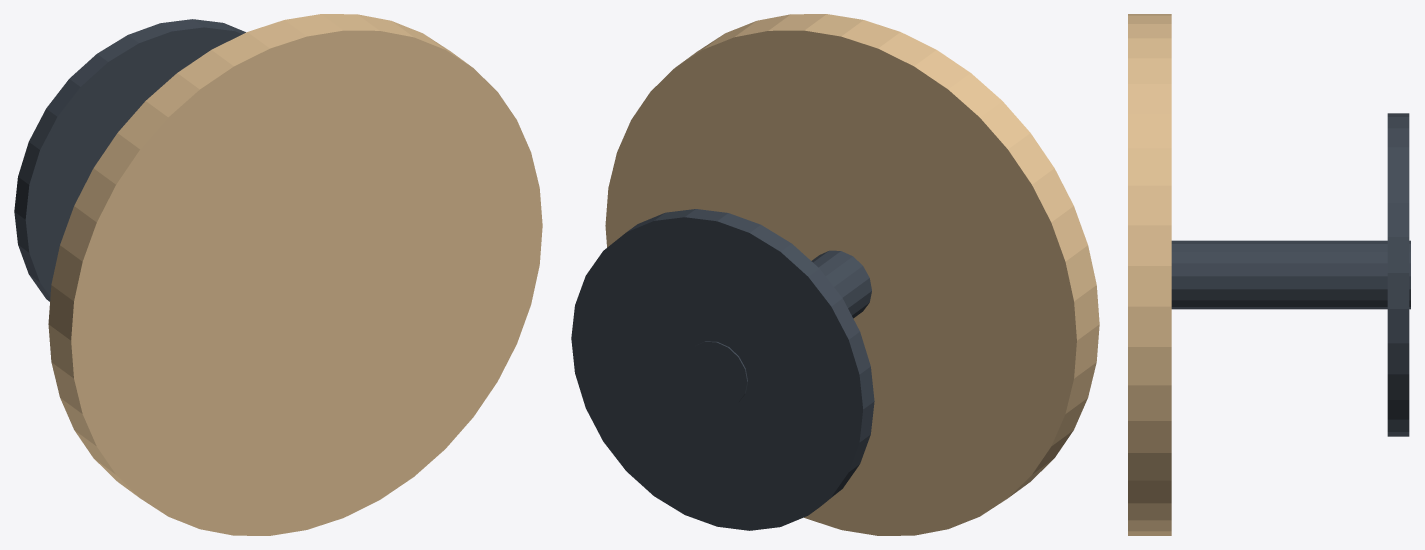
The model's file is TABLE_COFFEE_ROUND_001.glb.
The picture shows the model from 3 angles, left to right: view 1: azimuth 30°, elevation 25°; view 2: azimuth 150°, elevation 25°; view 3: azimuth 270°, elevation 25°; orthographic projection. The views are drawn at different scales.
Visible parts, largest first — view 1: round_top_000, base_002; view 2: round_top_000, base_002, pedestal_001; view 3: round_top_000, pedestal_001, base_002.
Part boxes in pixels (x1,y1,x2,y2): round_top_000: (48, 14, 542, 535); base_002: (14, 19, 245, 301); round_top_000: (605, 14, 1099, 535); base_002: (571, 209, 874, 530); pedestal_001: (685, 250, 871, 407); round_top_000: (1128, 14, 1171, 535); pedestal_001: (1171, 240, 1410, 309); base_002: (1387, 113, 1409, 436).
Bounding box in the file's own units: 0.84 × 0.84 × 0.455.
